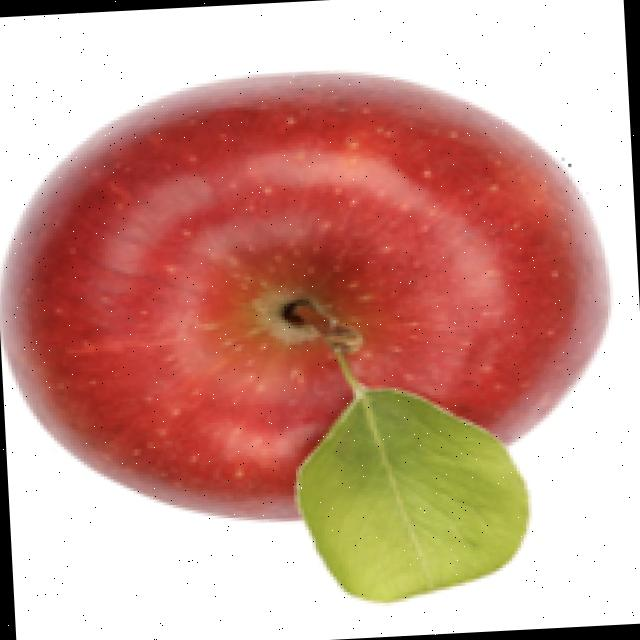apple: (0, 68, 614, 609)
